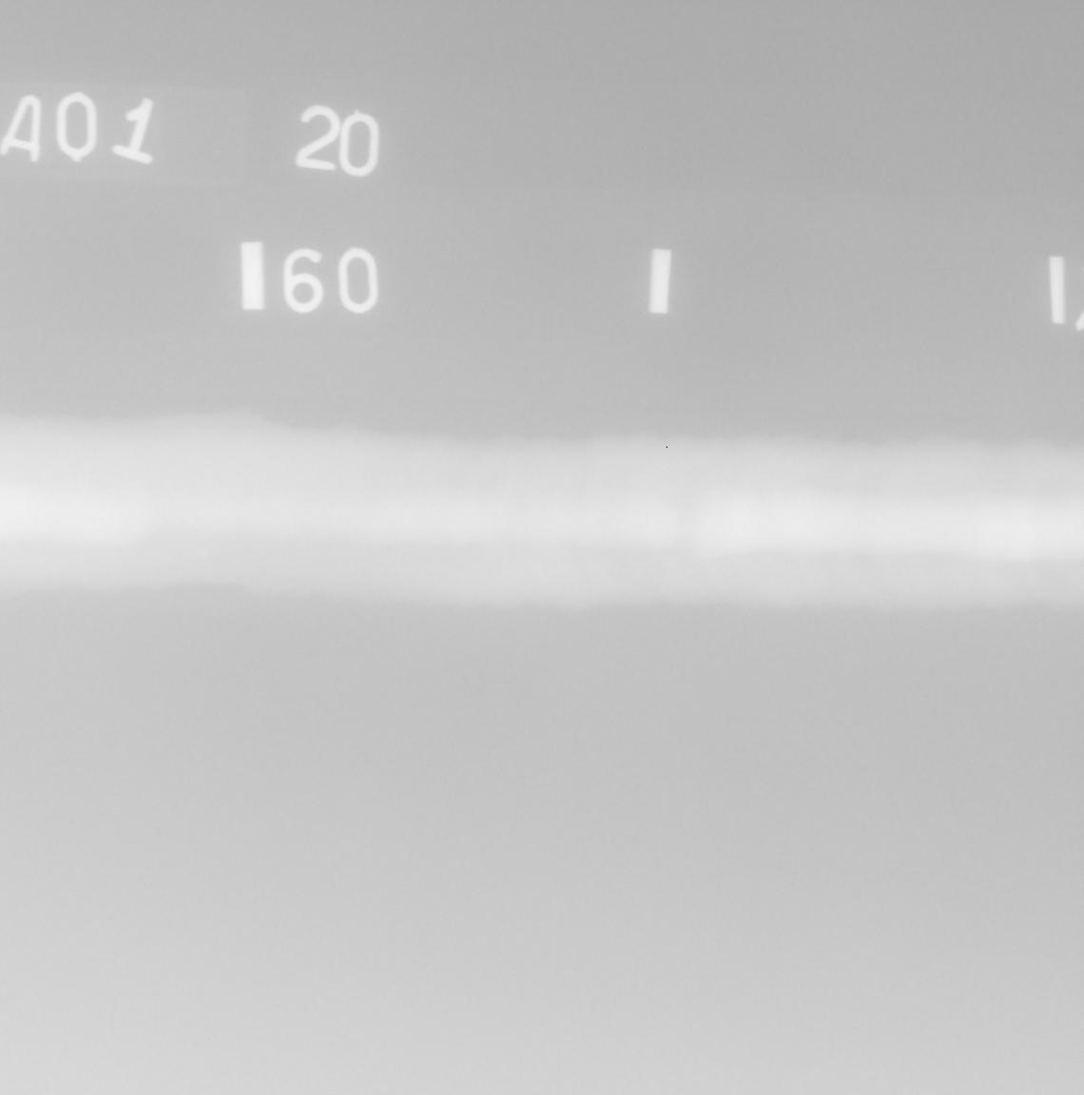Pore/Porosity: (255, 492, 260, 497), (831, 535, 836, 539), (869, 522, 873, 524)
